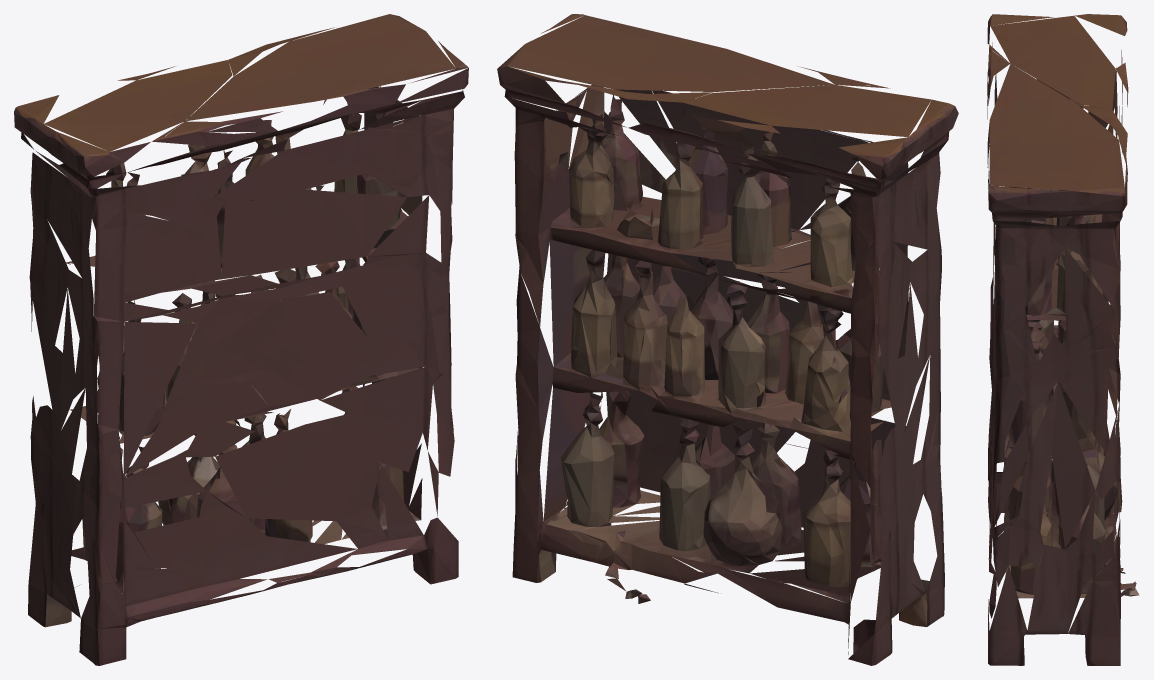
File: bottle_rack.glb
3 renders of one model, left to right at view 1: azimuth 30°, elevation 25°; view 2: azimuth 150°, elevation 25°; view 3: azimuth 270°, elevation 25°, orthographic. The views are drawn at different scales.
Visible parts, largest first — view 1: geometry_0; view 2: geometry_0; view 3: geometry_0.
Part boxes in pixels (<box>): geometry_0: <box>14,14,468,665</box>; geometry_0: <box>497,14,958,665</box>; geometry_0: <box>987,14,1139,665</box>.
Size of the model in its own units: 1.8 by 2.26 by 0.648.
1 material, 1 textured.
